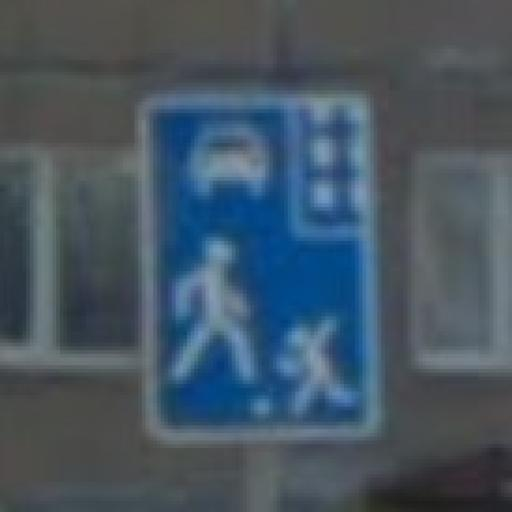traffic_sign: (139, 95, 386, 445)
